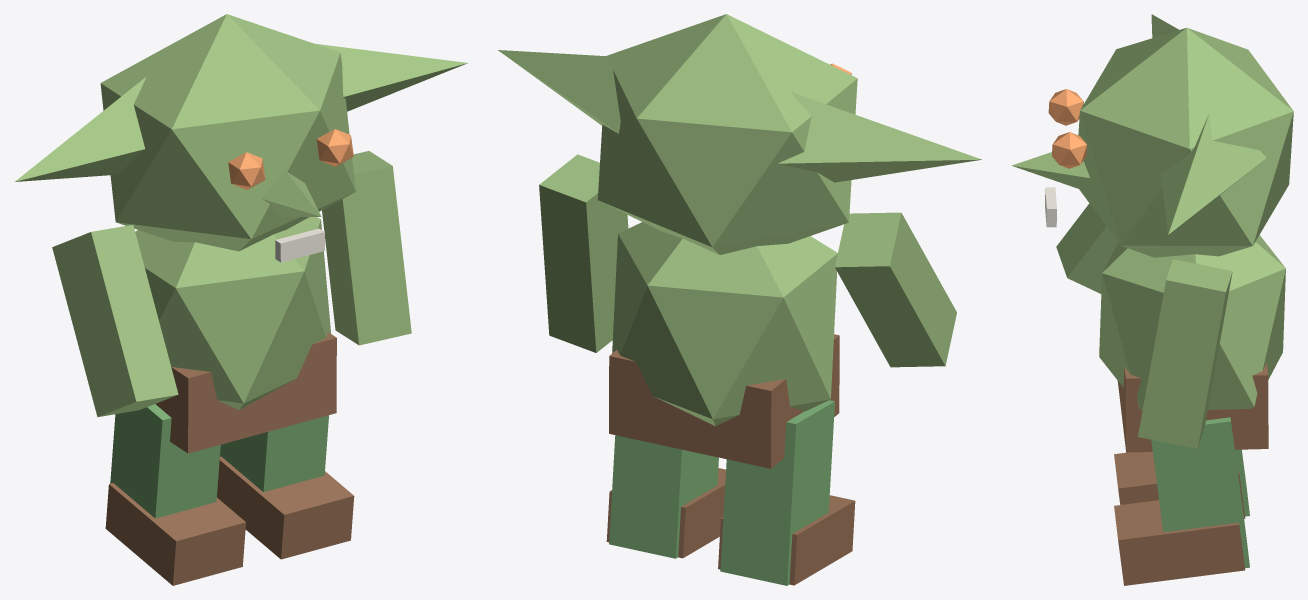
The model's file is npcpose_goblin_attack_08.glb.
3 renders of one model, left to right at view 1: azimuth 30°, elevation 25°; view 2: azimuth 150°, elevation 25°; view 3: azimuth 270°, elevation 25°, orthographic. The views are drawn at different scales.
Parts seen in each view (by area): view 1: npcpose; view 2: npcpose; view 3: npcpose.
Boxes of the visible parts, box(x1,y1,x2,y2) form: npcpose: box(15, 14, 467, 585); npcpose: box(498, 14, 981, 585); npcpose: box(1011, 14, 1293, 585).
Bounding box in the file's own units: 1.03 × 1.11 × 0.5551.
